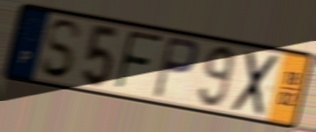5: (79, 23, 120, 90)
9: (196, 44, 237, 111)
F: (112, 28, 166, 94)
P: (151, 34, 201, 102)
S: (38, 17, 84, 81)
X: (228, 48, 282, 119)
